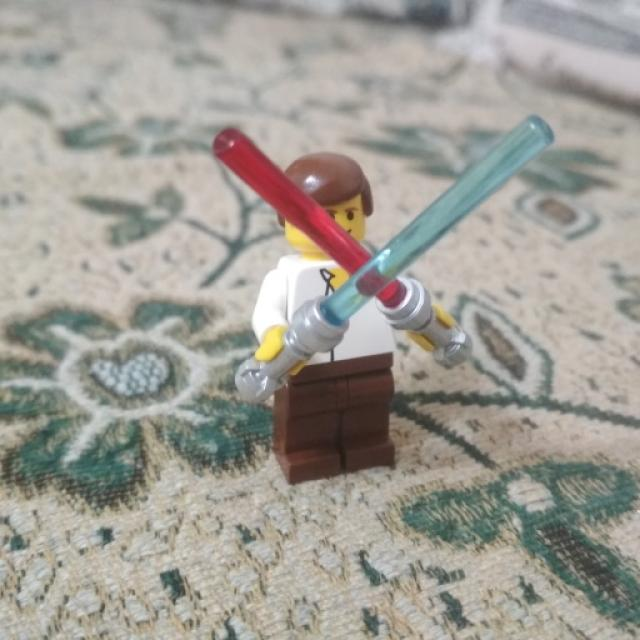Lego-Minifigures: (217, 118, 449, 513)
